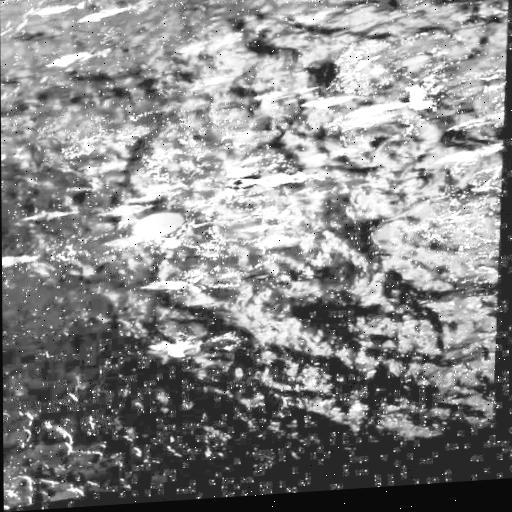balloon: (135, 213, 190, 243)
